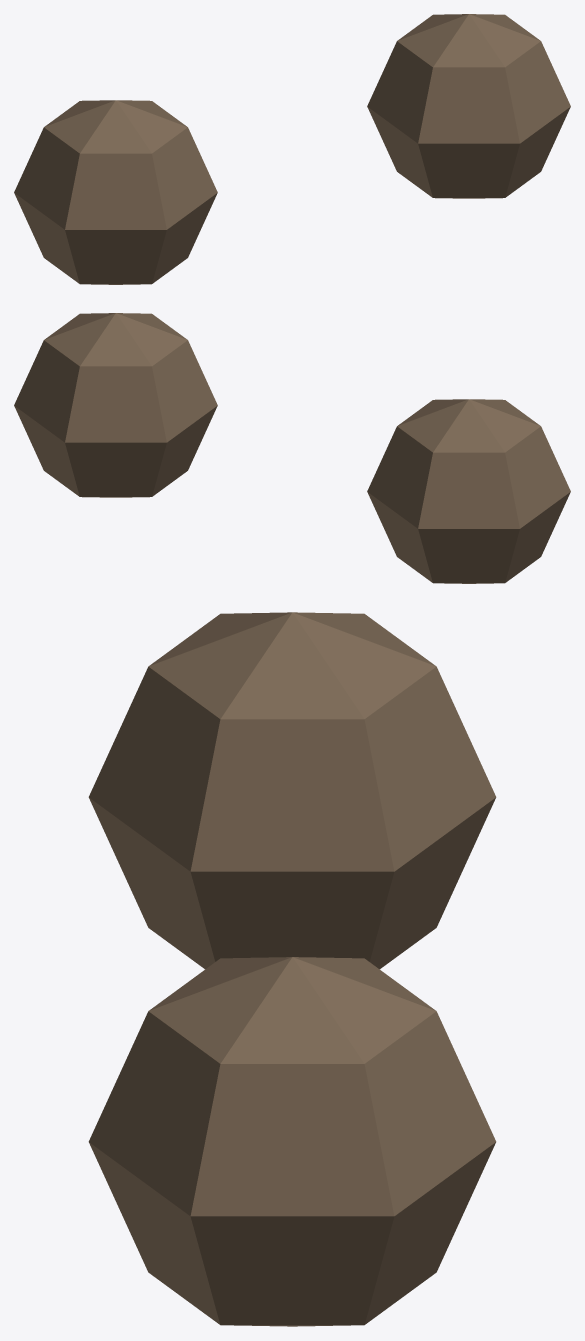
File: bear.dae
3 renders of one model, top to bottom at view 1: azimuth 30°, elevation 25°; view 2: azimuth 150°, elevation 25°; view 3: azimuth 270°, elevation 25°, orthographic. The views are drawn at different scales.
Parts seen in each view (by area): view 1: Sphere.001, Sphere; view 2: Sphere.001, Sphere; view 3: Sphere.001, Sphere.
Part boxes in pixels (x1,y1,x2,y2): Sphere.001: [367, 14, 570, 198]; Sphere: [14, 100, 217, 284]; Sphere.001: [14, 313, 217, 497]; Sphere: [367, 399, 570, 583]; Sphere.001: [88, 957, 496, 1326]; Sphere: [88, 612, 496, 969].
Size of the model in its own units: 22.93 by 8 by 8.
